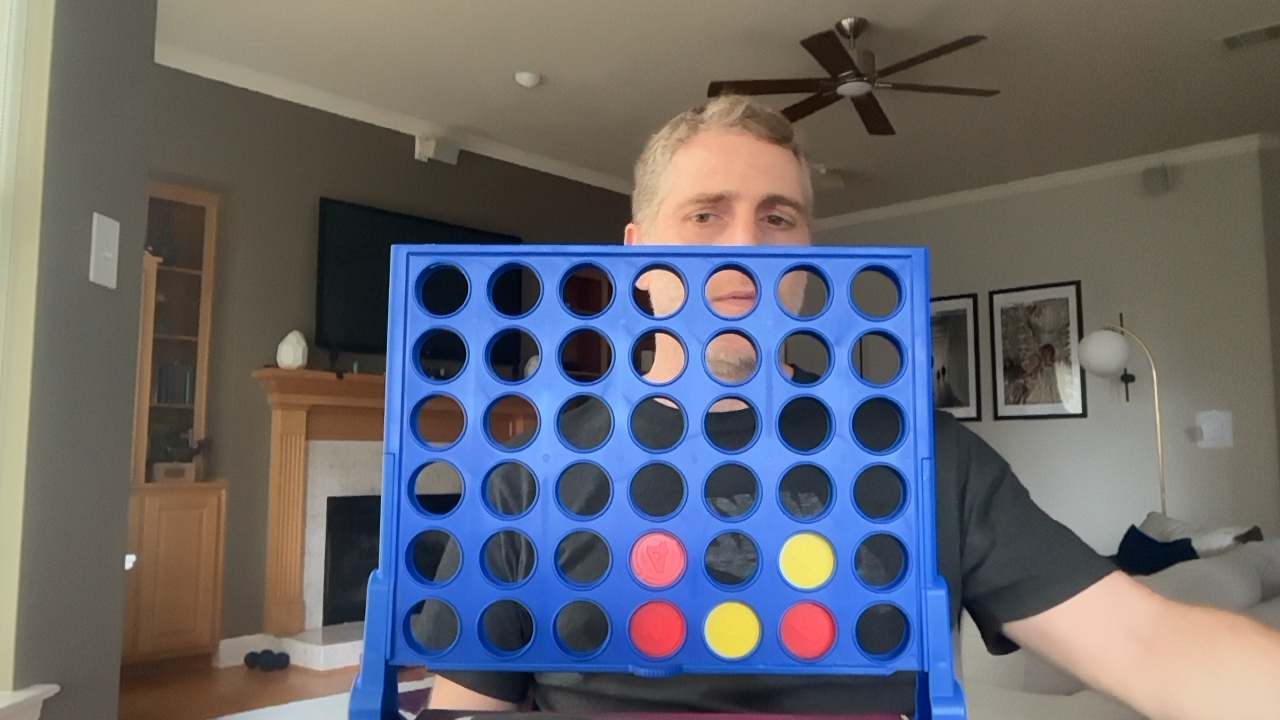red piece: (628, 601, 686, 657), (780, 601, 836, 659), (630, 531, 686, 587)
yellow piece: (704, 601, 760, 659), (780, 532, 834, 589)
